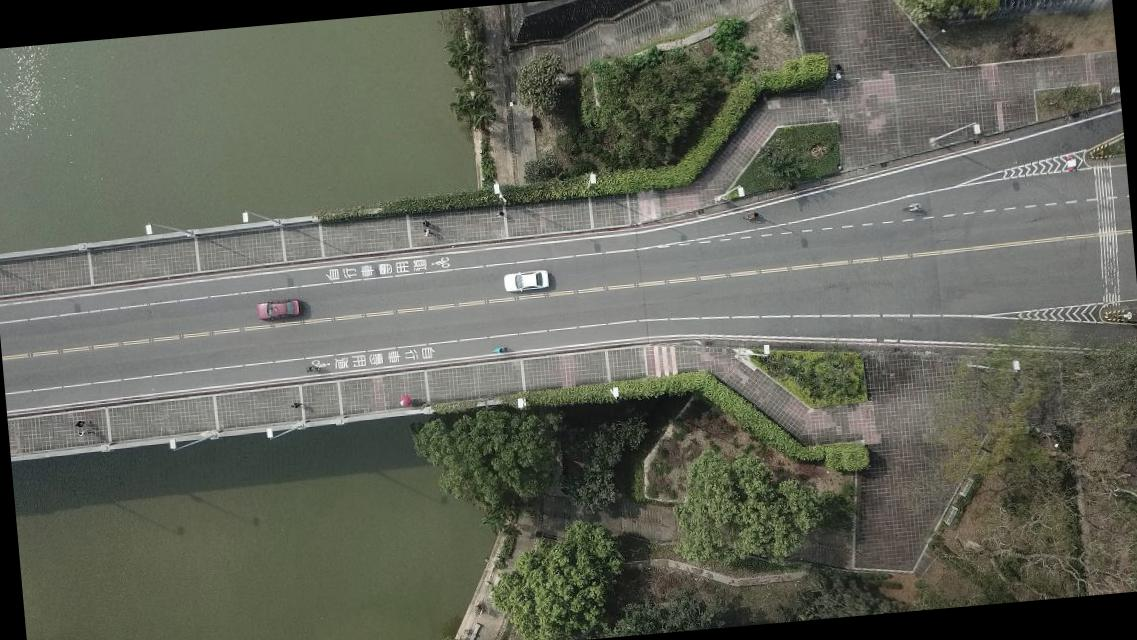vehicle: (502, 268, 548, 294), (255, 298, 301, 322)
